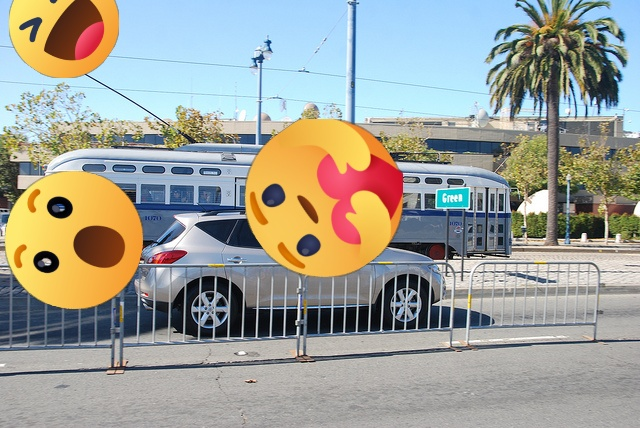care: (245, 119, 403, 277)
haha: (9, 0, 119, 78)
wow: (5, 171, 143, 309)
